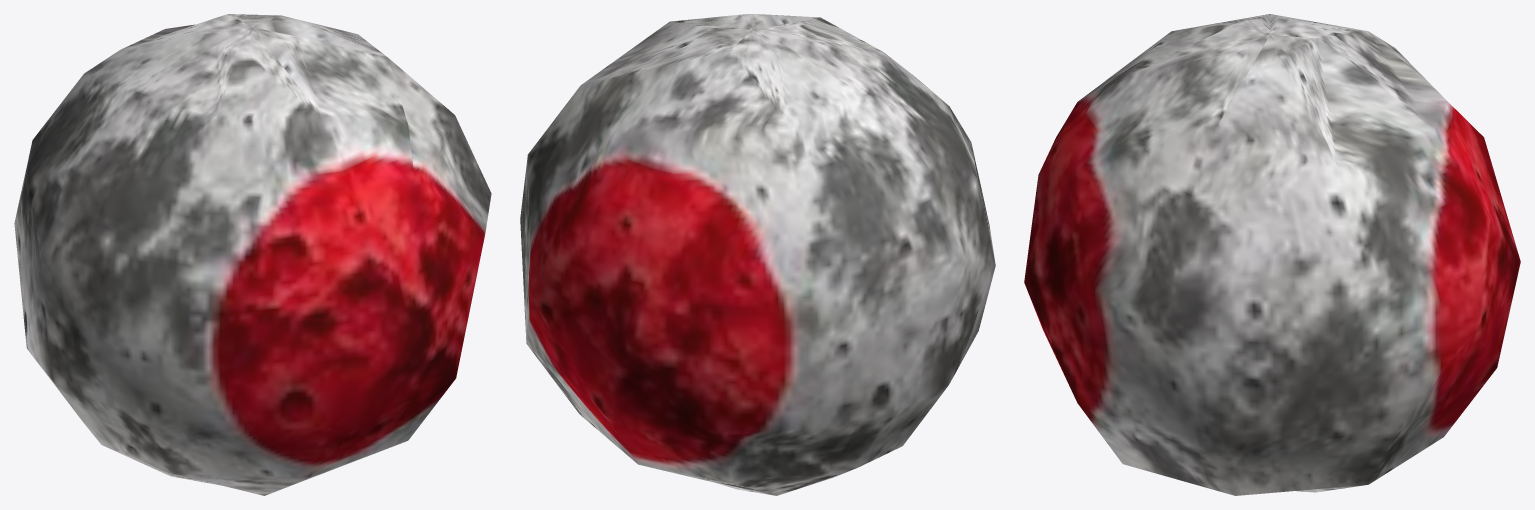
Rendered from planet_japan-lod.glb.
3 renders of one model, left to right at view 1: azimuth 30°, elevation 25°; view 2: azimuth 150°, elevation 25°; view 3: azimuth 270°, elevation 25°, orthographic. The views are drawn at different scales.
Visible parts, largest first — view 1: Sphere; view 2: Sphere; view 3: Sphere.
Boxes of the visible parts, x1=… form: Sphere: x1=14, y1=14, x2=491, y2=495; Sphere: x1=520, y1=14, x2=995, y2=495; Sphere: x1=1024, y1=14, x2=1520, y2=495.
Bounding box in the file's own units: 1.96 × 2 × 1.98.
1 material, 1 textured.
